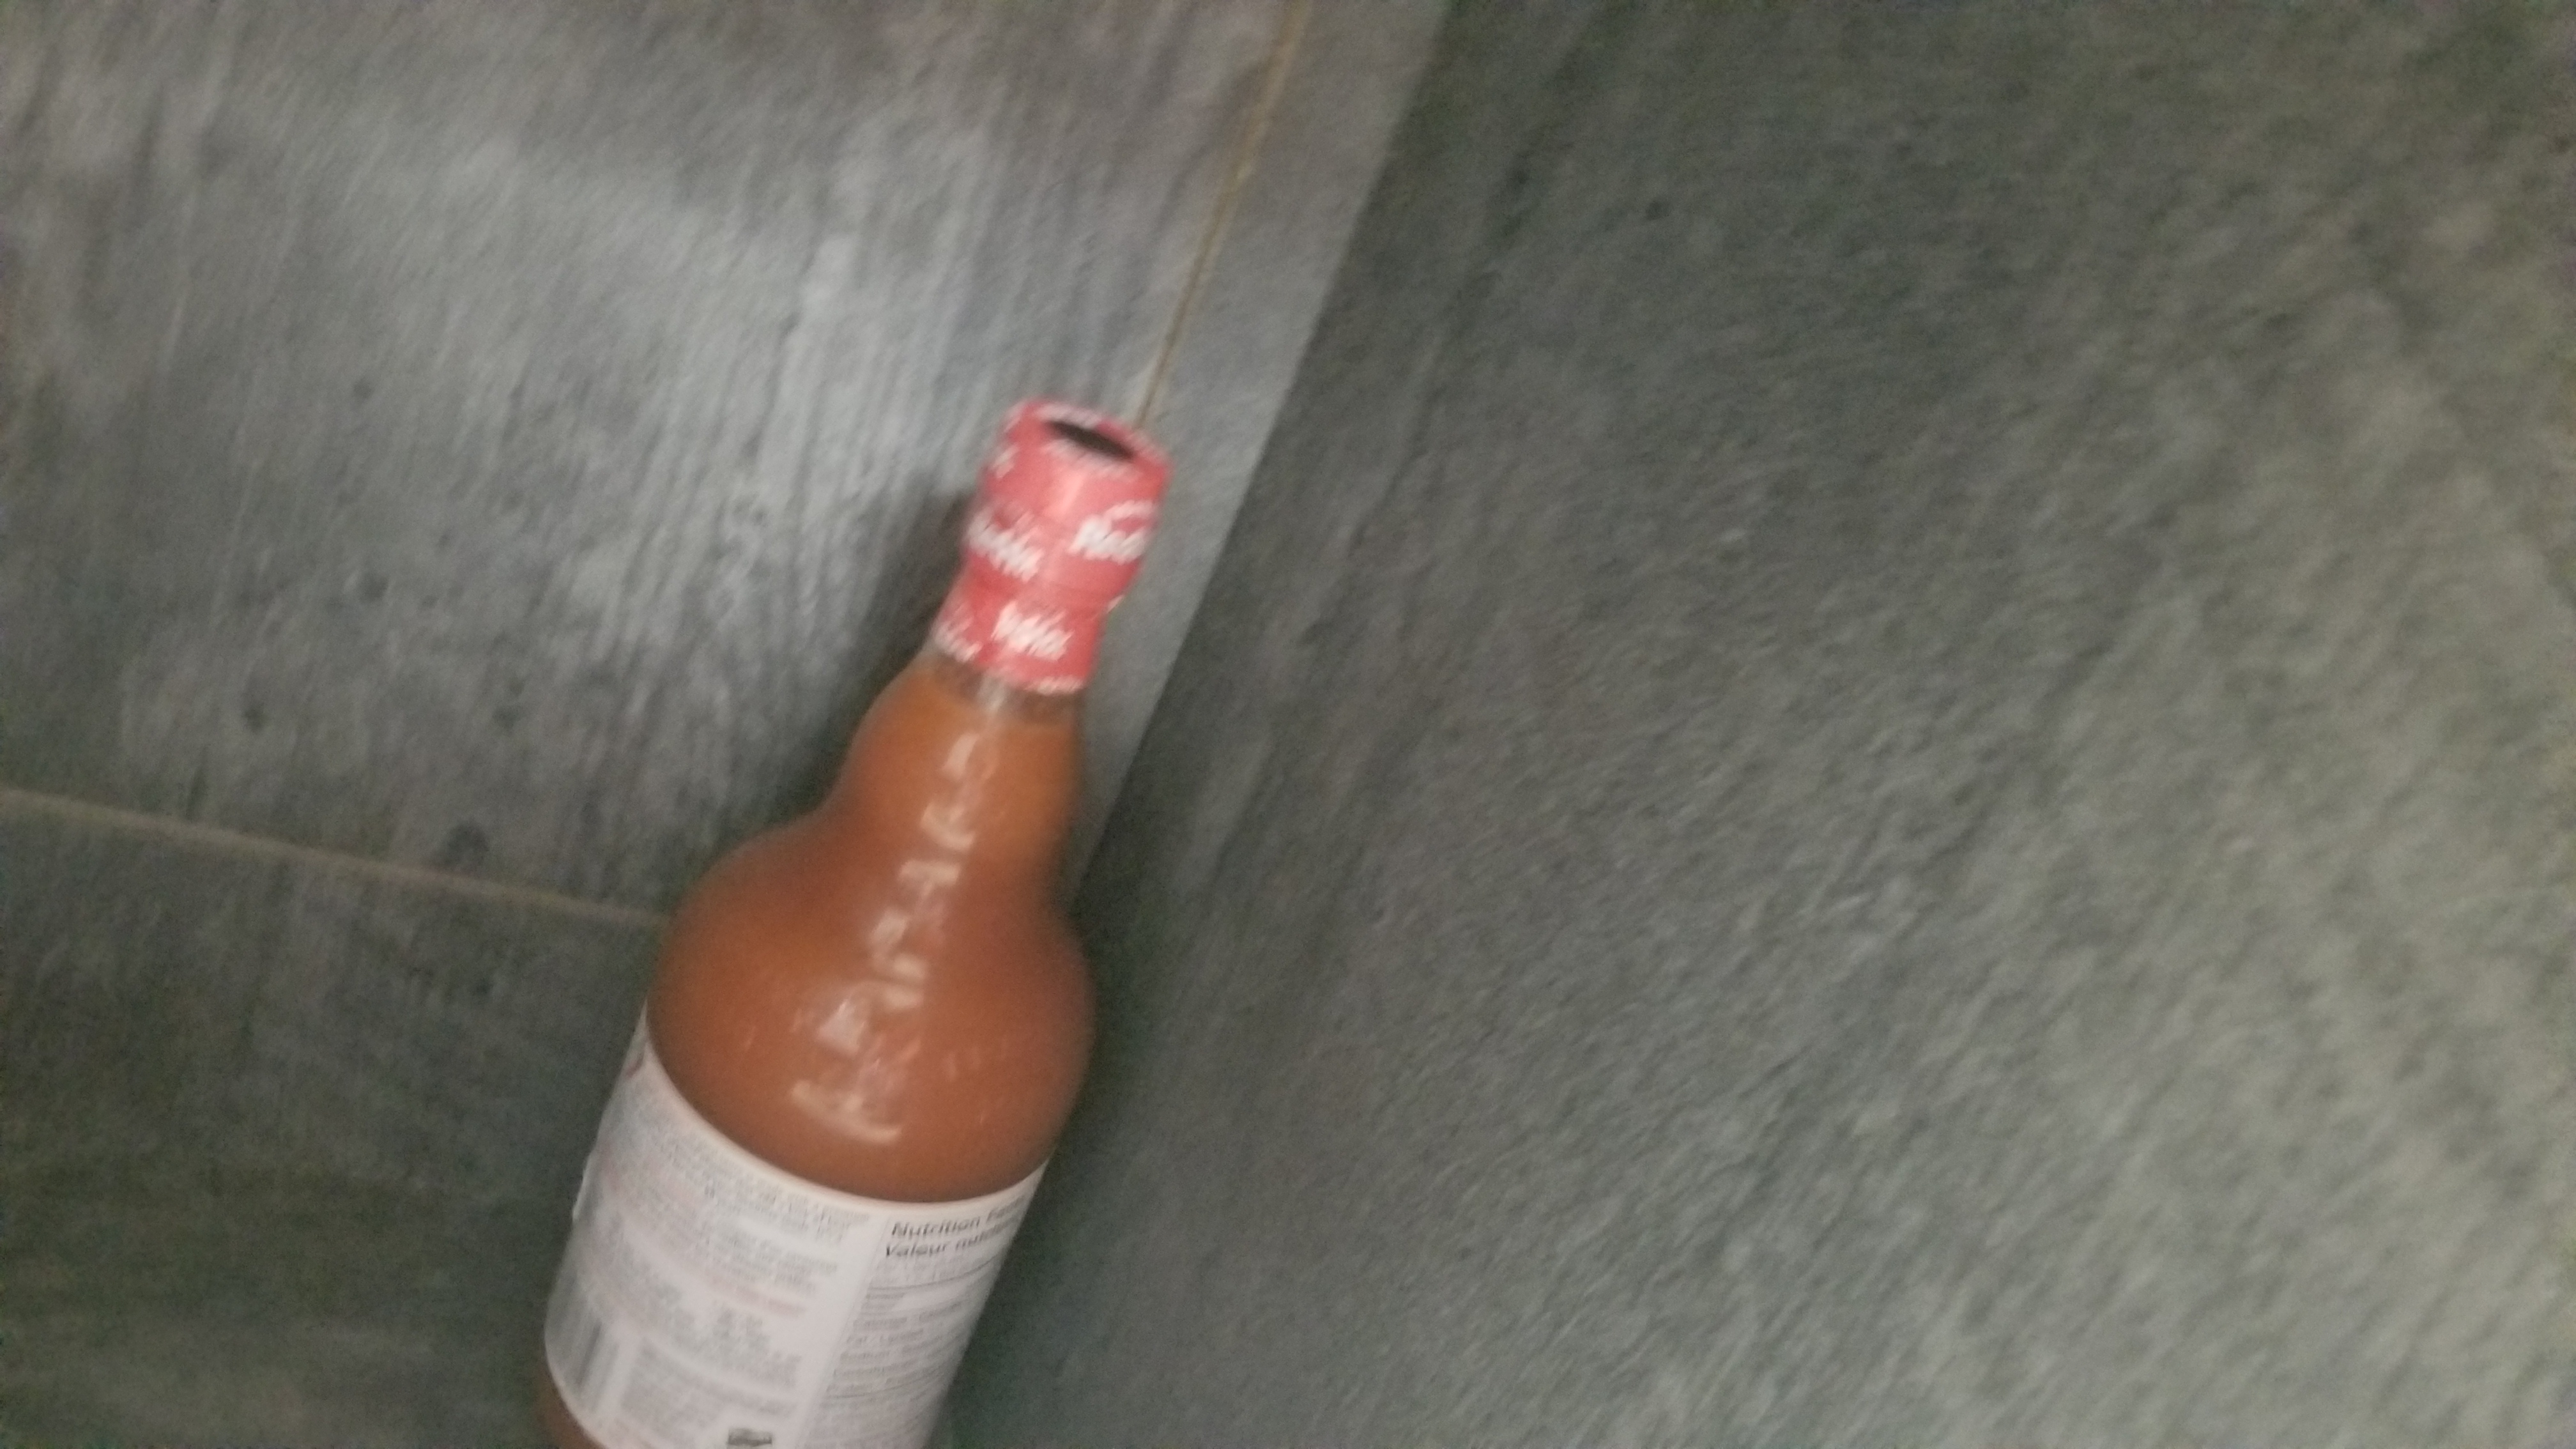hot sauce: (488, 379, 1180, 1442)
